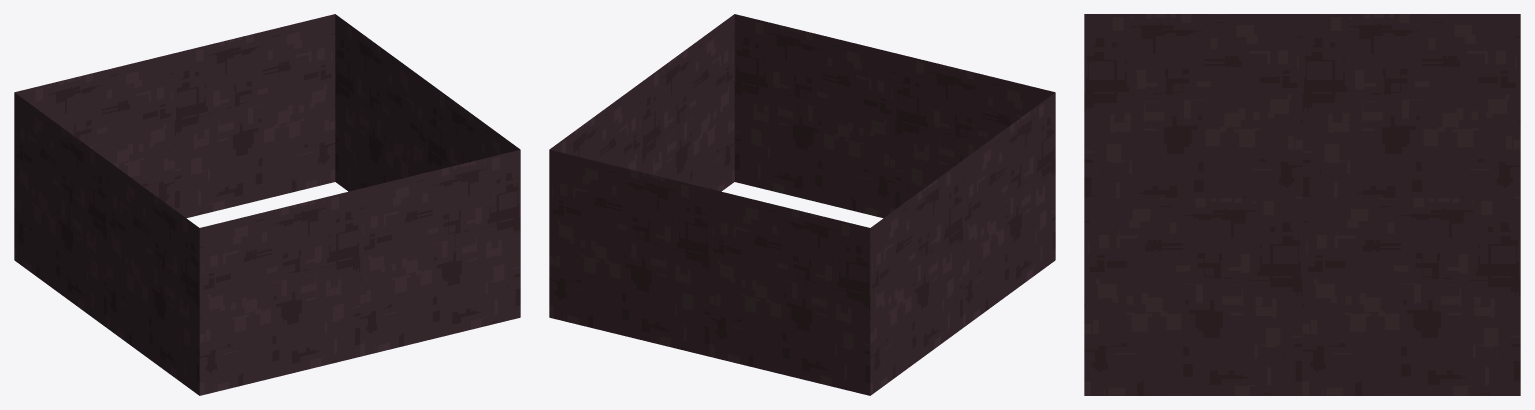
File: SmallWallFloor.fbx
3 renders of one model, left to right at view 1: azimuth 30°, elevation 25°; view 2: azimuth 150°, elevation 25°; view 3: azimuth 270°, elevation 25°, orthographic. The views are drawn at different scales.
Parts seen in each view (by area): view 1: SmallWallFloor; view 2: SmallWallFloor; view 3: SmallWallFloor.
Part boxes in pixels (x1,y1,x2,y2): SmallWallFloor: [14, 14, 520, 395]; SmallWallFloor: [549, 14, 1055, 395]; SmallWallFloor: [1084, 14, 1520, 395].
Bounding box in the file's own units: 200 × 100 × 200.
